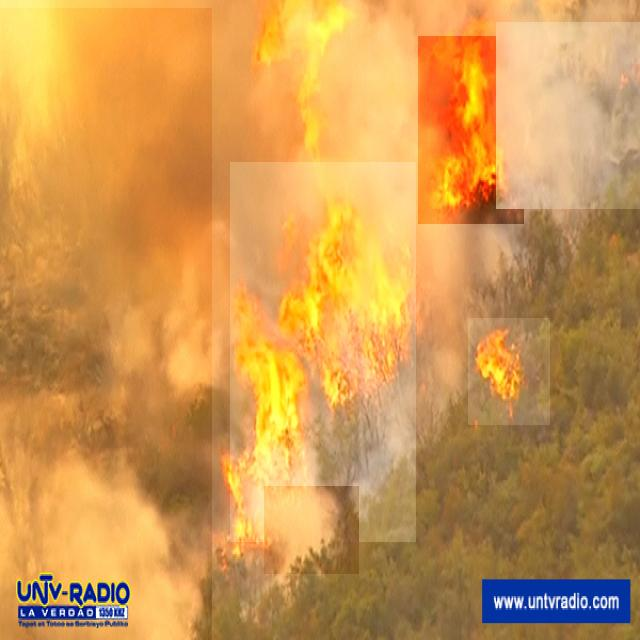Fire: (230, 162, 416, 542), (418, 36, 524, 225), (254, 10, 367, 158), (468, 318, 550, 425)
Smoke: (0, 8, 212, 640), (496, 22, 640, 209), (264, 486, 359, 574)
